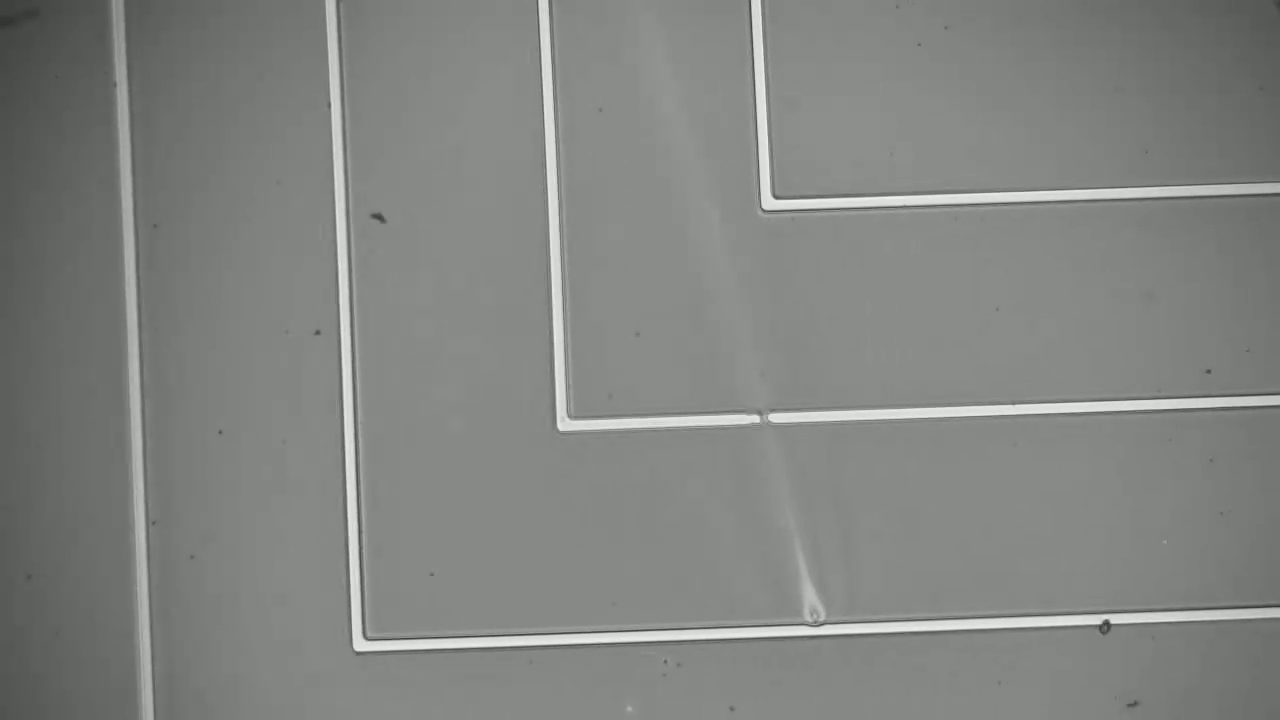open: (742, 398, 782, 437)
stains_enbedded: (1087, 599, 1124, 648)
